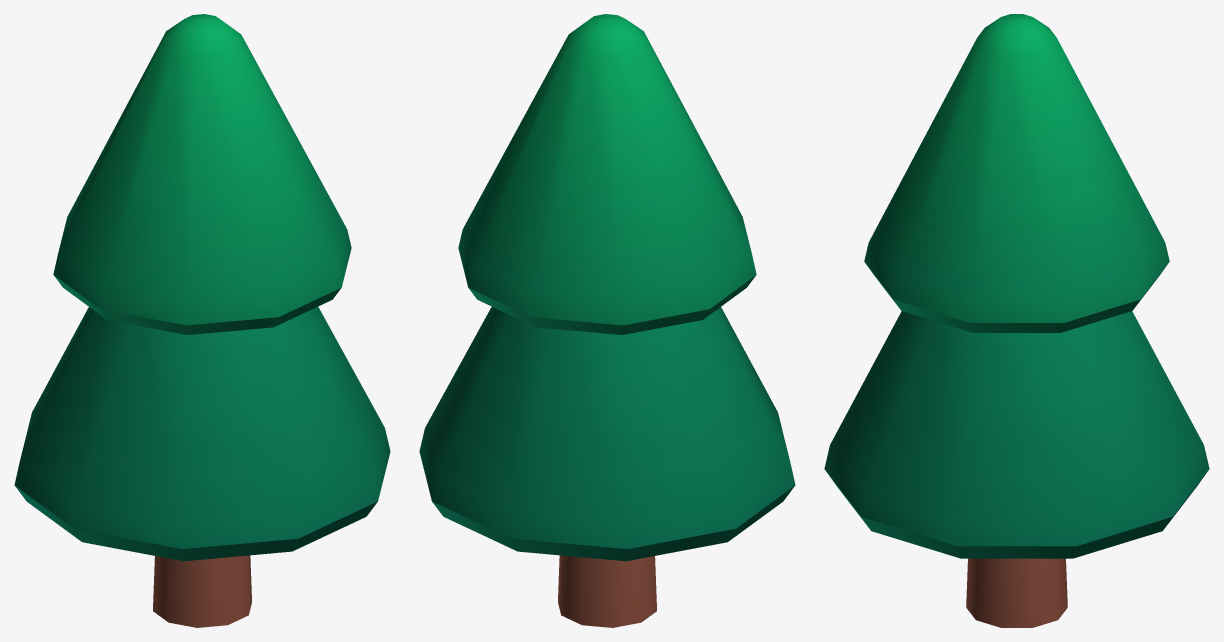
The model's file is tree_single_b.glb.
3 renders of one model, left to right at view 1: azimuth 30°, elevation 25°; view 2: azimuth 150°, elevation 25°; view 3: azimuth 270°, elevation 25°, orthographic.
Visible parts, largest first — view 1: tree_single_B; view 2: tree_single_B; view 3: tree_single_B.
Boxes of the visible parts, <box> form: tree_single_B: <box>14,14,390,627</box>; tree_single_B: <box>419,14,795,627</box>; tree_single_B: <box>824,14,1209,627</box>.
Size of the model in its own units: 0.6849 by 1.21 by 0.7201.
1 material, 1 textured.
